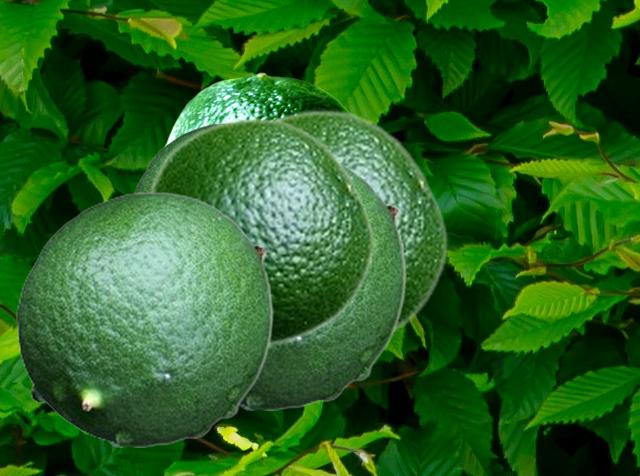calamansi: (16, 191, 272, 446), (145, 116, 374, 347), (240, 160, 405, 409), (271, 108, 448, 336), (164, 72, 348, 143), (132, 122, 217, 192)
